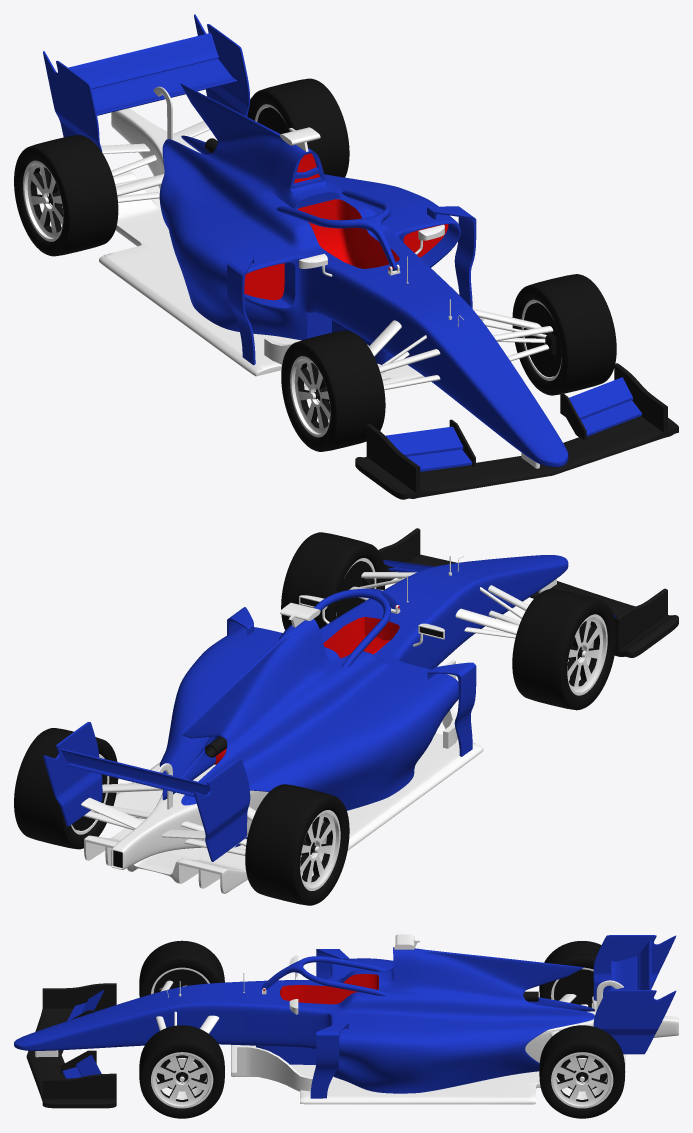
The model's file is Men_accessory_RacingBulls_5000.fbx.
3 renders of one model, top to bottom at view 1: azimuth 30°, elevation 25°; view 2: azimuth 150°, elevation 25°; view 3: azimuth 270°, elevation 25°, orthographic. The views are drawn at different scales.
Visible parts, largest first — view 1: _gltfNode_0, _gltfNode_3, _gltfNode_13, _gltfNode_16, _gltfNode_4, _gltfNode_2, _gltfNode_10, _gltfNode_1, _gltfNode_14, _gltfNode_17; view 2: _gltfNode_0, _gltfNode_3, _gltfNode_16, _gltfNode_13, _gltfNode_4, _gltfNode_17, _gltfNode_14, _gltfNode_2, _gltfNode_10; view 3: _gltfNode_0, _gltfNode_3, _gltfNode_13, _gltfNode_4, _gltfNode_16, _gltfNode_10, _gltfNode_14, _gltfNode_17, _gltfNode_2, _gltfNode_9.
Boxes of the visible parts, box(x1,y1,x2,y2) form: _gltfNode_0: box(43, 14, 641, 471); _gltfNode_3: box(99, 86, 553, 468); _gltfNode_13: box(281, 274, 616, 451); _gltfNode_16: box(14, 78, 349, 256); _gltfNode_4: box(355, 363, 678, 499); _gltfNode_2: box(298, 199, 399, 268); _gltfNode_10: box(47, 107, 561, 401); _gltfNode_1: box(244, 153, 448, 300); _gltfNode_14: box(290, 299, 561, 437); _gltfNode_17: box(23, 104, 284, 241); _gltfNode_0: box(43, 555, 616, 861); _gltfNode_3: box(81, 555, 556, 893); _gltfNode_16: box(14, 728, 349, 905); _gltfNode_13: box(281, 532, 616, 710); _gltfNode_4: box(378, 528, 678, 657); _gltfNode_17: box(71, 754, 340, 890); _gltfNode_14: box(336, 558, 607, 695); _gltfNode_2: box(323, 617, 399, 658); _gltfNode_10: box(72, 561, 583, 855); _gltfNode_0: box(14, 935, 676, 1098); _gltfNode_3: box(35, 934, 678, 1104); _gltfNode_13: box(139, 940, 224, 1118); _gltfNode_4: box(26, 983, 116, 1108); _gltfNode_16: box(539, 941, 625, 1118); _gltfNode_10: box(153, 969, 607, 1089); _gltfNode_14: box(151, 967, 213, 1108); _gltfNode_17: box(551, 967, 613, 1108); _gltfNode_2: box(280, 974, 378, 1004); _gltfNode_9: box(164, 1058, 600, 1091).
Size of the model in its own units: 170 by 99.25 by 463.
